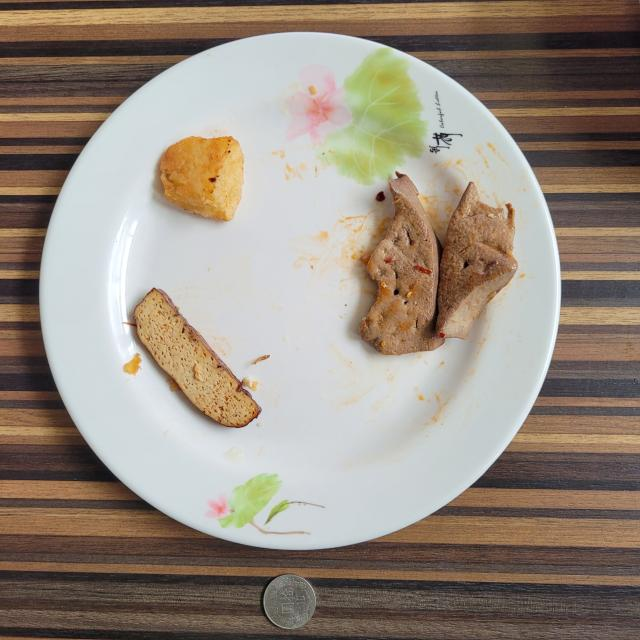coin: (264, 575, 316, 629)
firm tofu: (134, 289, 261, 428)
fried potato: (160, 136, 244, 221)
pig liver: (359, 172, 518, 355)
